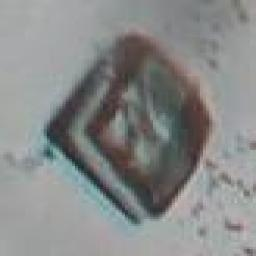crystals: (43, 27, 215, 230)
